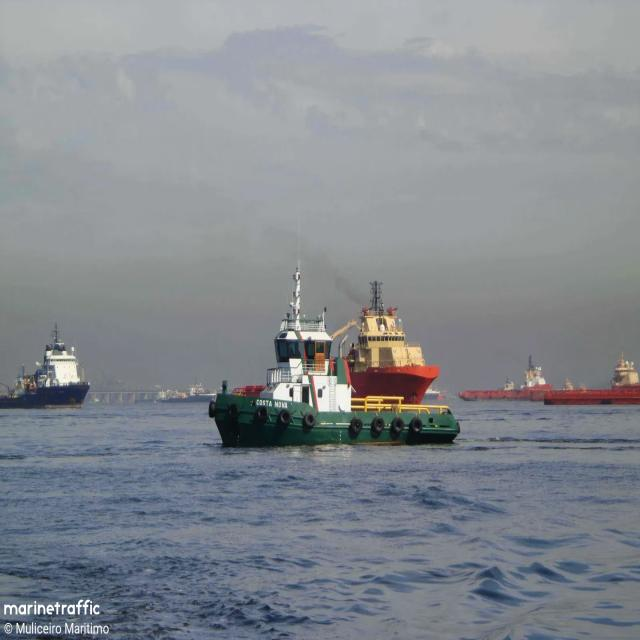Tug: (209, 264, 459, 446)
